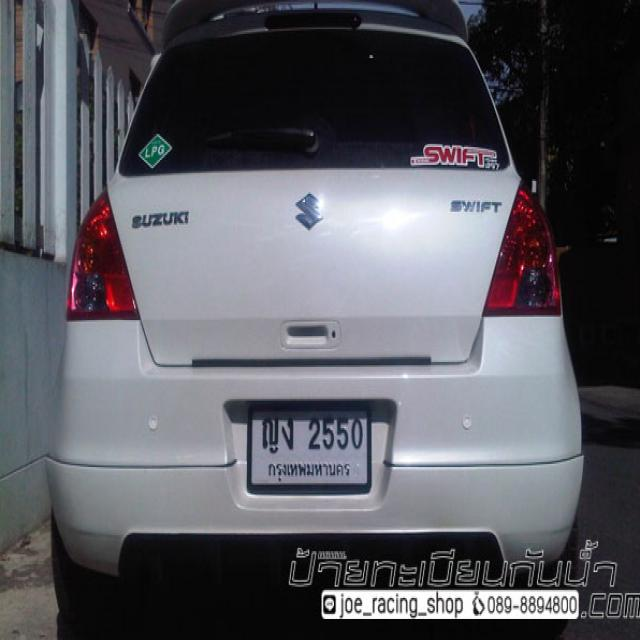license_plate: (246, 402, 372, 496)
